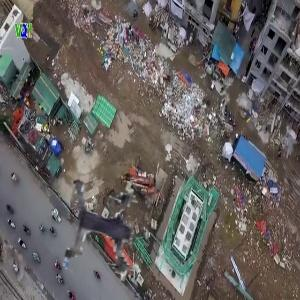drone: (46, 164, 175, 293)
